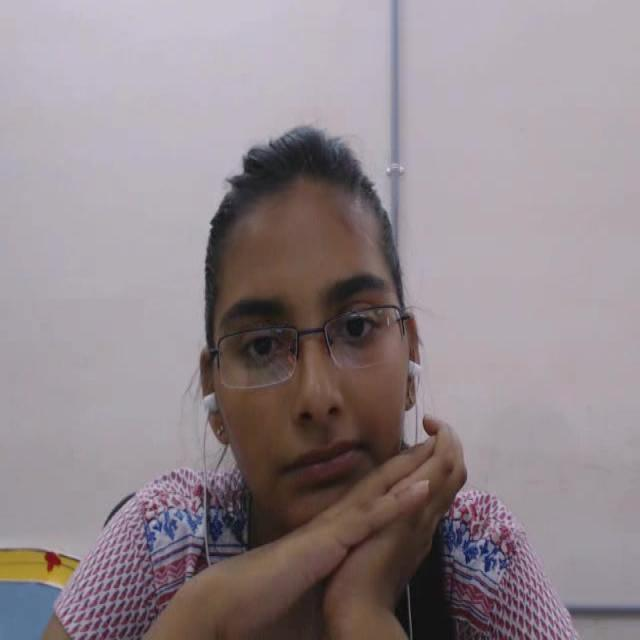Bored: (169, 103, 445, 547)
